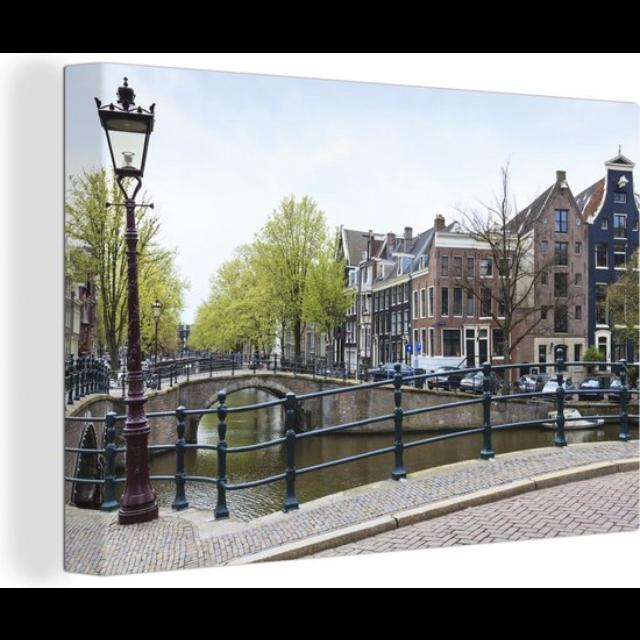Street-Lamp: (83, 74, 157, 522)
